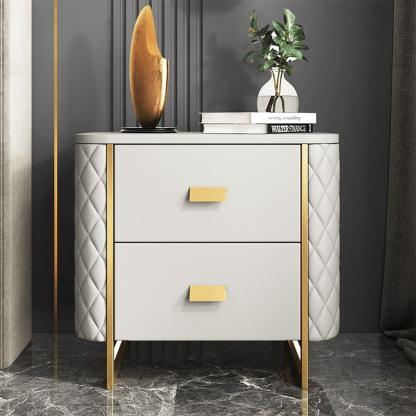Nightstand: (74, 135, 344, 387)
